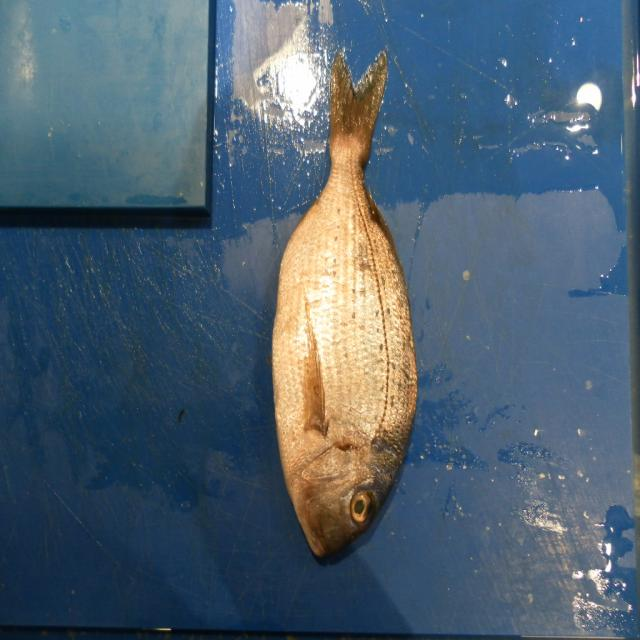Red-Sea-Bream-mercan-: (271, 52, 419, 566)
